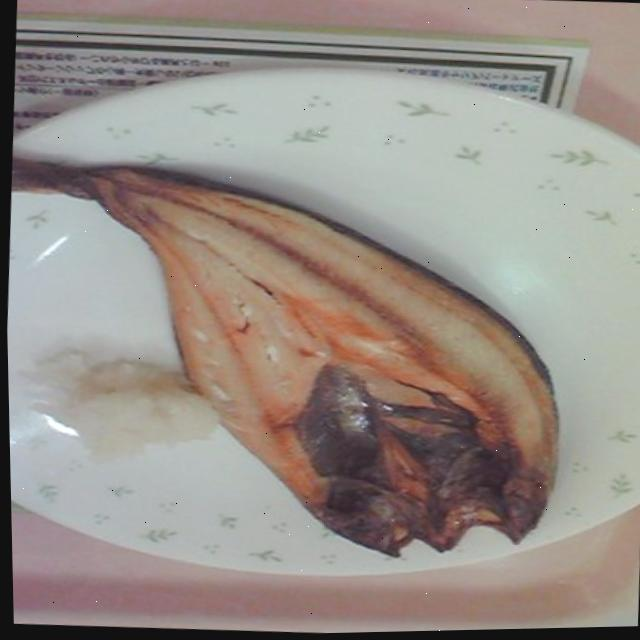熟制海鲜: (1, 34, 640, 634)
